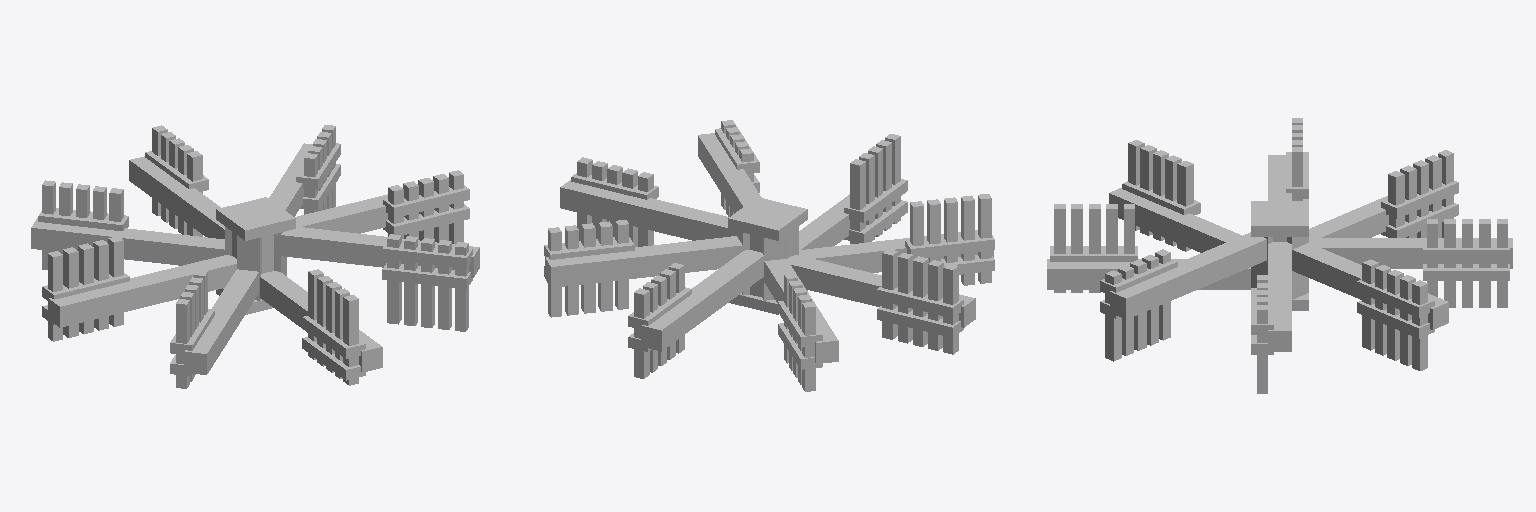
File: panemone.obj
3 views of the same model, side by side, from view 1: azimuth 30°, elevation 25°; view 2: azimuth 150°, elevation 25°; view 3: azimuth 270°, elevation 25° (orthographic).
Parts seen in each view (by area): view 1: Cube.008_Cube.010, Cube.010_Cube.012, Cube.011_Cube.013, Cube.009_Cube.011, Cube.014_Cube.016, Cube.013_Cube.015, Cube.002_Cube.003, Cube.007_Cube.008, Cube.000_Cube.009, Cube.067_Cube.071, Cube.012_Cube.014, Cube.066_Cube.070 (+28 smaller); view 2: Cube.012_Cube.014, Cube.007_Cube.008, Cube.014_Cube.016, Cube.008_Cube.010, Cube.002_Cube.003, Cube.011_Cube.013, Cube.009_Cube.011, Cube.010_Cube.012, Cube.013_Cube.015, Cube.000_Cube.009, Cube.063_Cube.067, Cube.054_Cube.058 (+28 smaller); view 3: Cube.011_Cube.013, Cube.009_Cube.011, Cube.014_Cube.016, Cube.012_Cube.014, Cube.013_Cube.015, Cube.007_Cube.008, Cube.002_Cube.003, Cube.010_Cube.012, Cube.058_Cube.062, Cube.059_Cube.063, Cube.068_Cube.072, Cube.065_Cube.069 (+28 smaller).
Boxes of the visible parts, box(x1,y1,x2,y2) form: Cube.008_Cube.010: box(48, 255, 236, 327); Cube.010_Cube.012: box(31, 218, 228, 265); Cube.011_Cube.013: box(276, 227, 479, 277); Cube.009_Cube.011: box(184, 269, 258, 374); Cube.014_Cube.016: box(129, 156, 224, 238); Cube.013_Cube.015: box(260, 271, 382, 372); Cube.002_Cube.003: box(216, 197, 295, 240); Cube.007_Cube.008: box(295, 194, 387, 233); Cube.000_Cube.009: box(225, 227, 286, 300); Cube.067_Cube.071: box(382, 241, 472, 268); Cube.012_Cube.014: box(269, 143, 312, 216); Cube.066_Cube.070: box(382, 263, 472, 289); Cube.012_Cube.014: box(545, 236, 742, 287); Cube.007_Cube.008: box(560, 180, 736, 240); Cube.014_Cube.016: box(641, 250, 763, 351); Cube.008_Cube.010: box(787, 255, 975, 327); Cube.002_Cube.003: box(728, 197, 807, 240); Cube.011_Cube.013: box(698, 133, 761, 213); Cube.009_Cube.011: box(799, 230, 993, 272); Cube.010_Cube.012: box(763, 259, 838, 363); Cube.013_Cube.015: box(799, 194, 849, 249); Cube.000_Cube.009: box(737, 227, 798, 300); Cube.063_Cube.067: box(905, 231, 994, 258); Cube.054_Cube.058: box(877, 286, 963, 317); Cube.011_Cube.013: box(1110, 232, 1266, 319); Cube.009_Cube.011: box(1109, 188, 1241, 252); Cube.014_Cube.016: box(1309, 238, 1512, 268); Cube.012_Cube.014: box(1292, 243, 1448, 329); Cube.013_Cube.015: box(1047, 259, 1250, 289); Cube.007_Cube.008: box(1268, 242, 1291, 351); Cube.002_Cube.003: box(1251, 201, 1308, 236); Cube.010_Cube.012: box(1309, 196, 1388, 237); Cube.058_Cube.062: box(1423, 240, 1509, 259); Cube.059_Cube.063: box(1423, 264, 1509, 280); Cube.068_Cube.072: box(1381, 181, 1458, 218); Cube.065_Cube.069: box(1357, 279, 1434, 317).
Size of the model in its own units: 5 by 1 by 5.